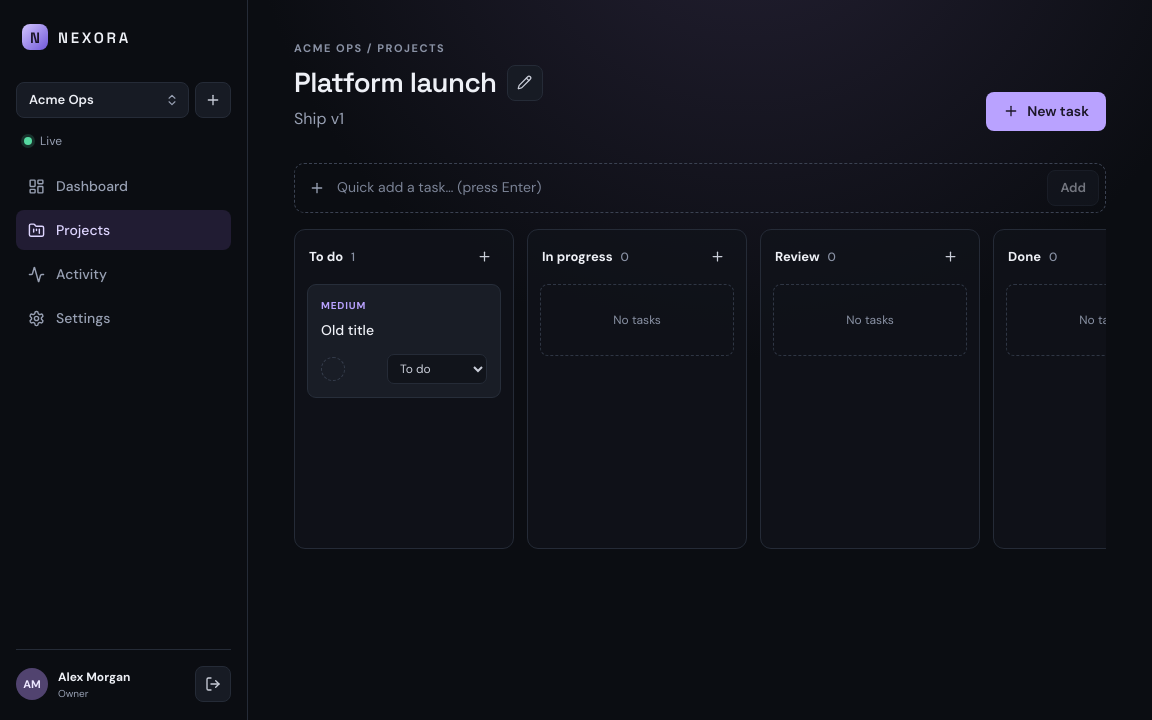
Test case: BoardPage › edits a task and surfaces a server-side assignee rejection on the field
This screenshot has width=1152, height=720.
Click the button "Old title". click: (348, 330)
box: 321,320 -> 374,340
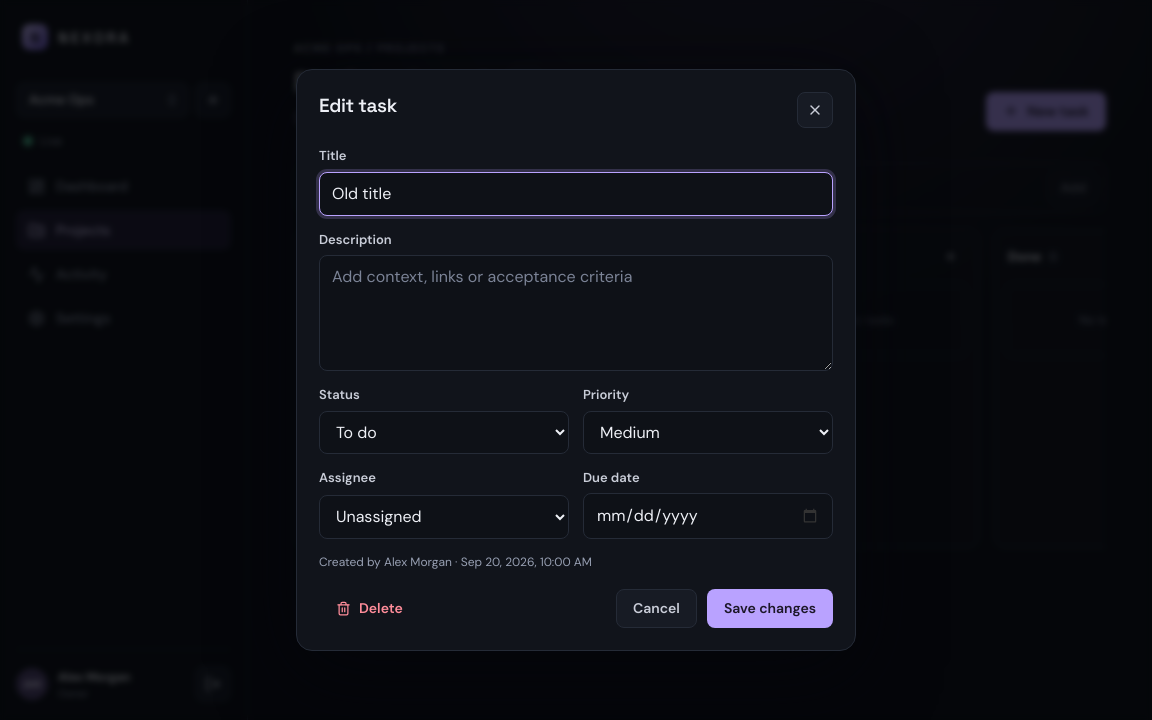
Expected: the field labelled "Title" holds "Old title"
Replace the text in the field labelled "Title" with "New title". click: (576, 194)
box: 319,172 -> 833,216
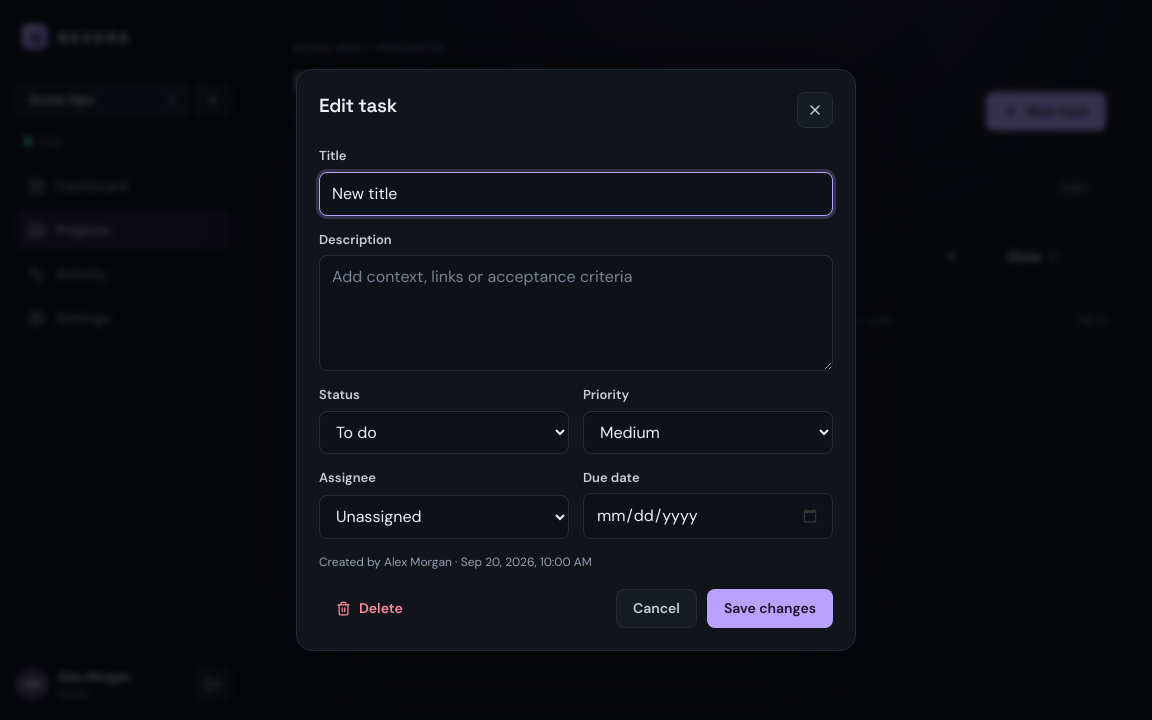
Select "Priya Shah" in the dropdown labelled "Assignee". click: (444, 517)
box: 319,494 -> 569,539
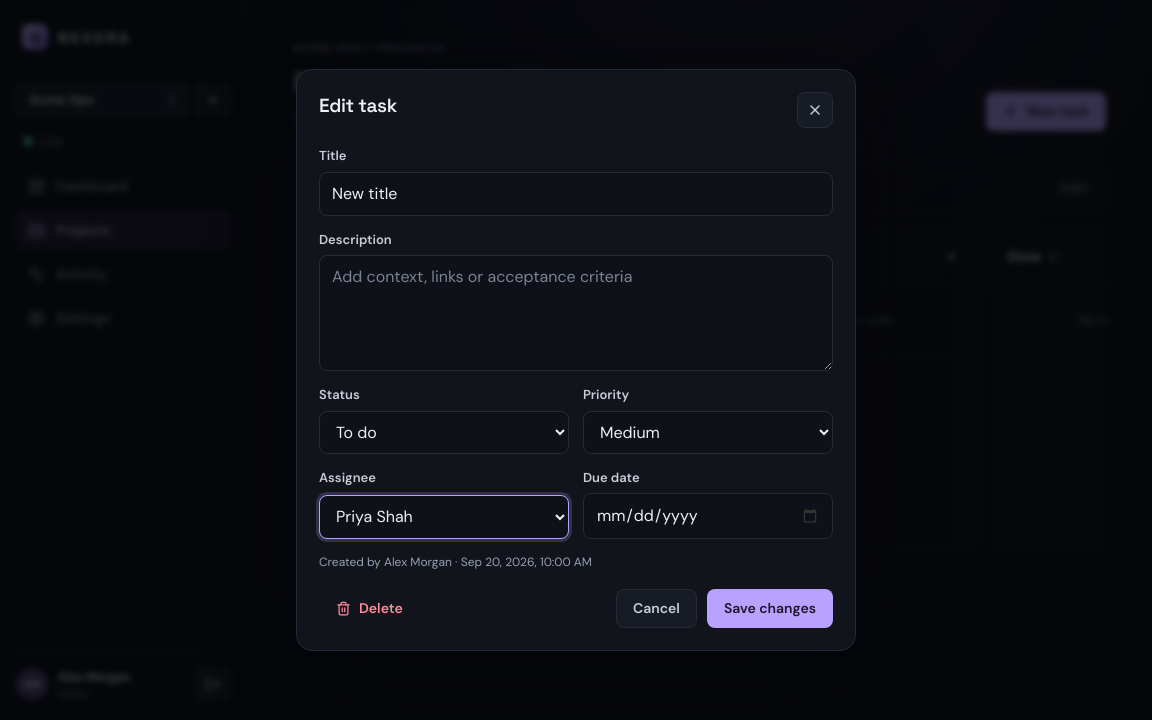
Click the button "Save changes". click: (770, 608)
box: 707,589 -> 833,628
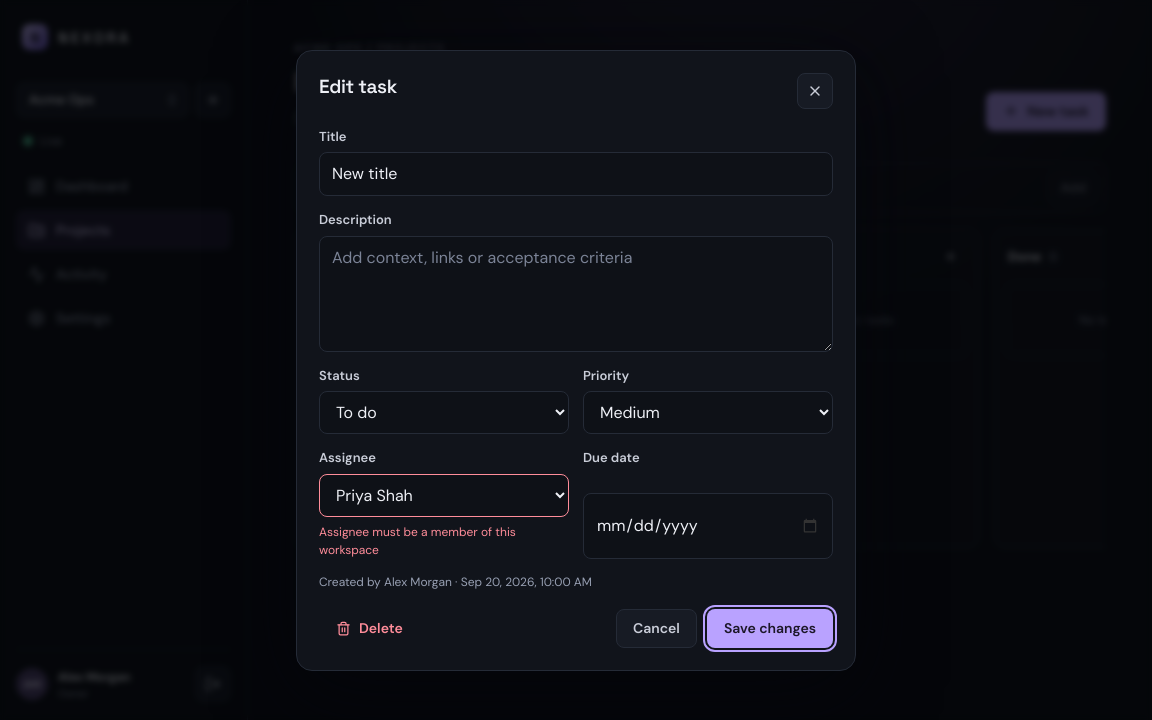
Expected: the text "Assignee must be a member of this workspace" is shown, 319,524 -> 516,558
Click the button "Save changes". click: (770, 628)
box: 707,608 -> 833,648
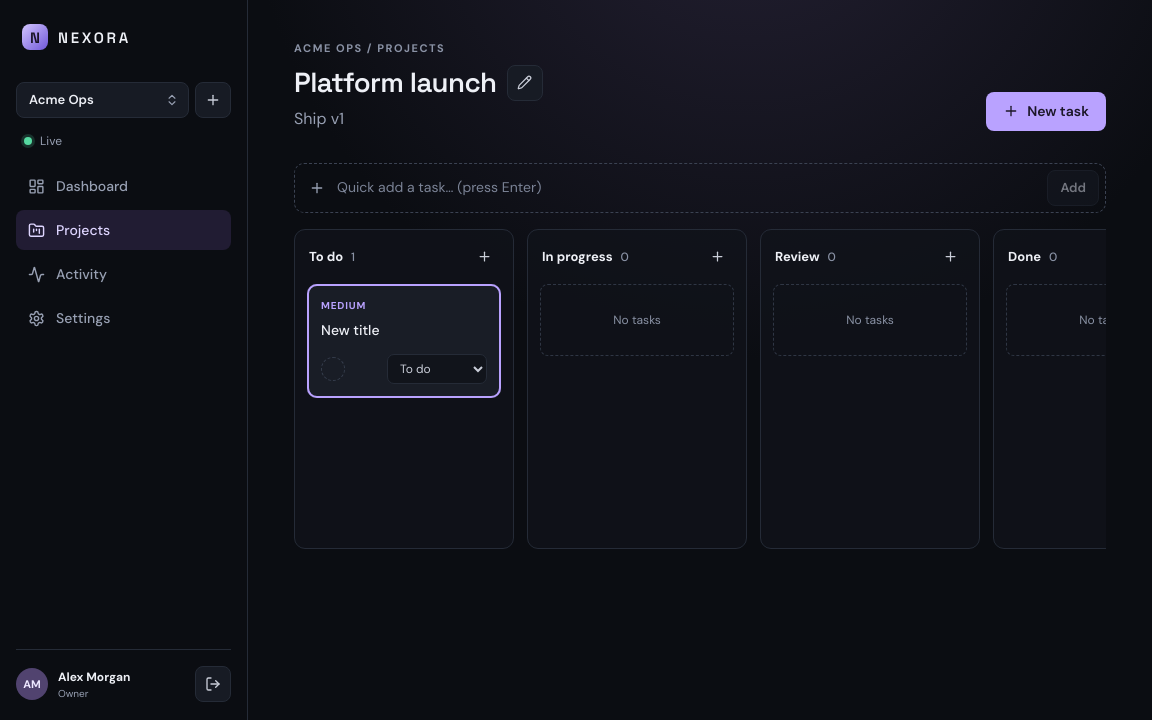
Expected: the dialog is gone
Expected: the element "New title" is shown, 307,284 -> 501,398
